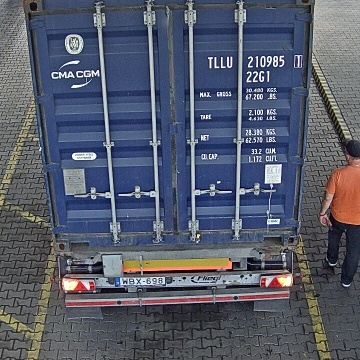serial_id: (208, 55, 302, 68)
